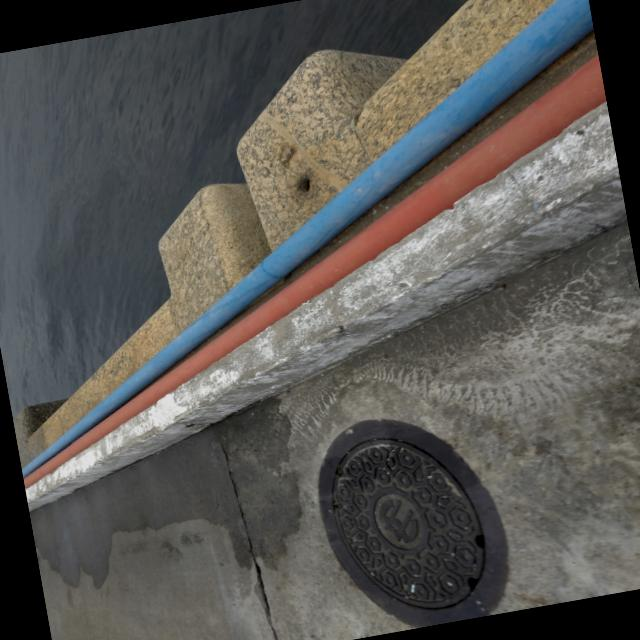gas: (21, 0, 593, 473), (23, 51, 606, 485)
